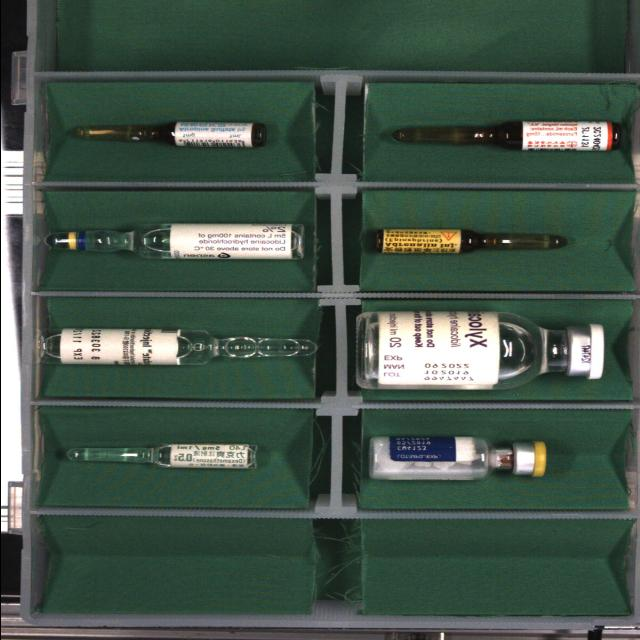Vials: (355, 311, 604, 390), (365, 436, 546, 480)
